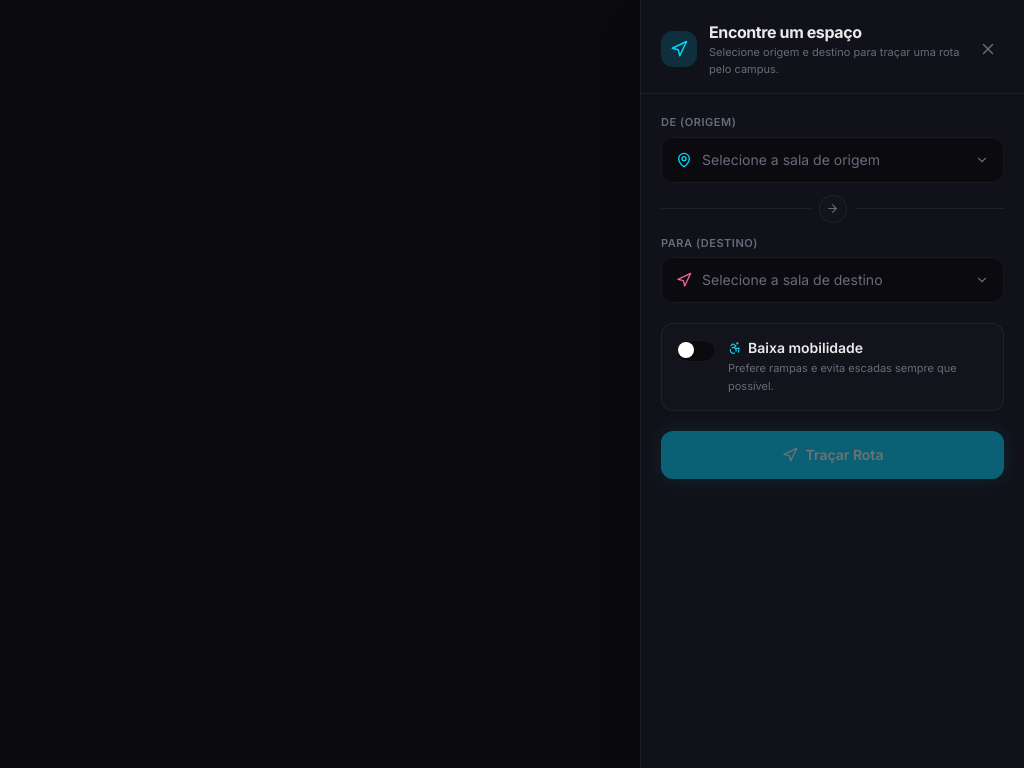
Test: RouteDrawer Component › deve resolver dinamicamente para o banheiro mais próximo ao selecionar "Banheiro (Mais Próximo)"
Note: Origem: Sala 01
Step 1. Click the button "Selecione a sala de origem" → (832, 160), box left=661, top=136, right=1004, bottom=182
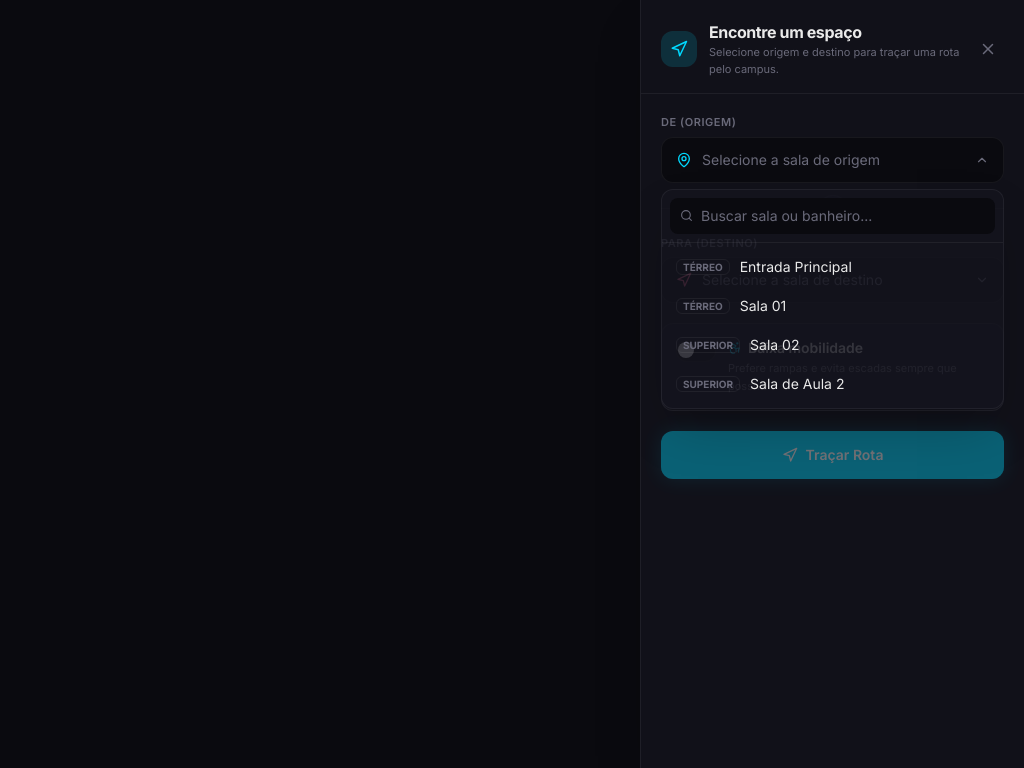
Step 2. Click the text "Sala 01" → (763, 305), box left=740, top=296, right=786, bottom=315
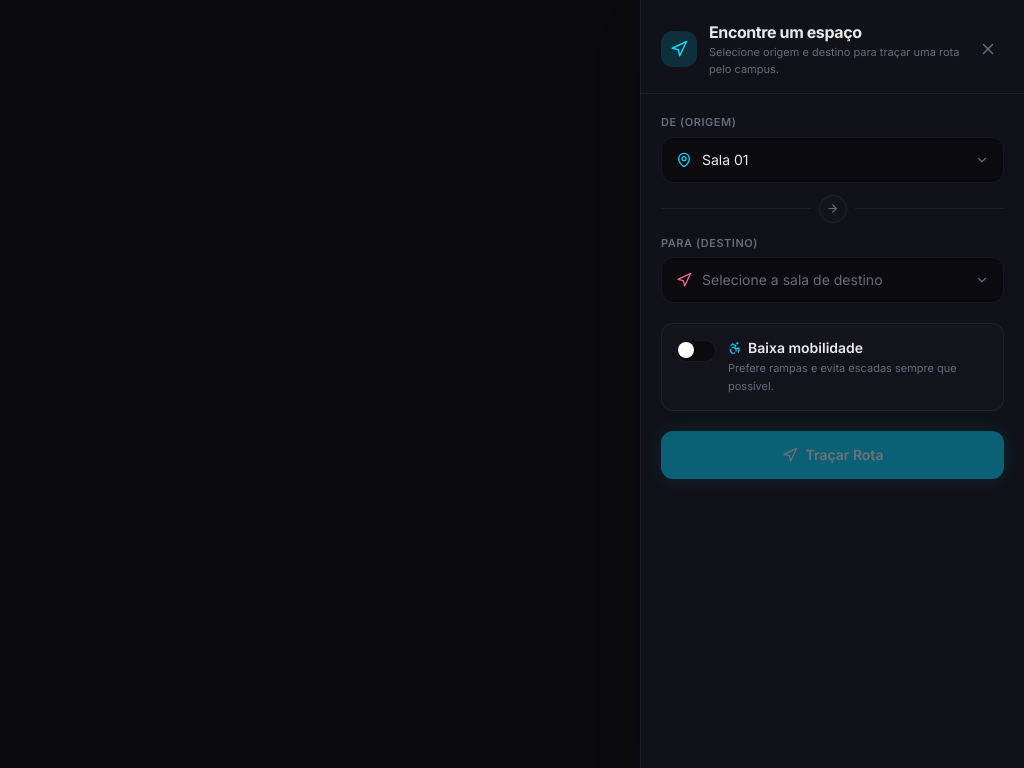
Note: Destino: Banheiro (Mais Próximo)
Step 3. Click the button "Selecione a sala de destino" → (832, 280), box left=661, top=257, right=1004, bottom=303
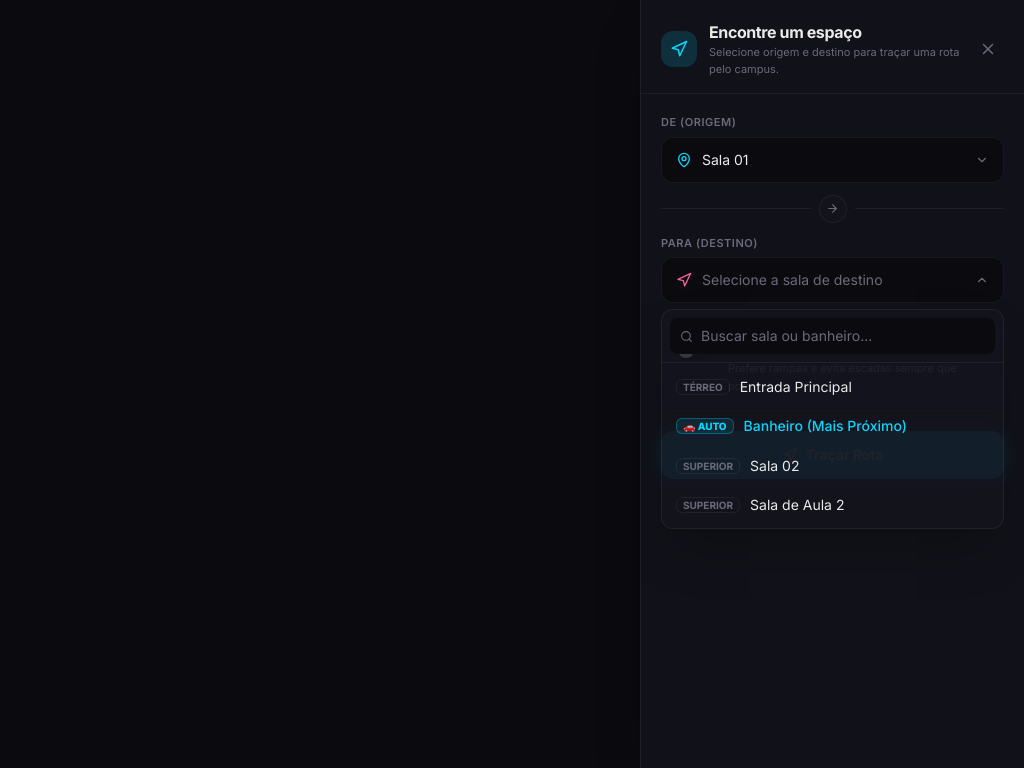
Step 4. Click the text "Banheiro (Mais Próximo)" → (825, 426), box left=744, top=416, right=907, bottom=436
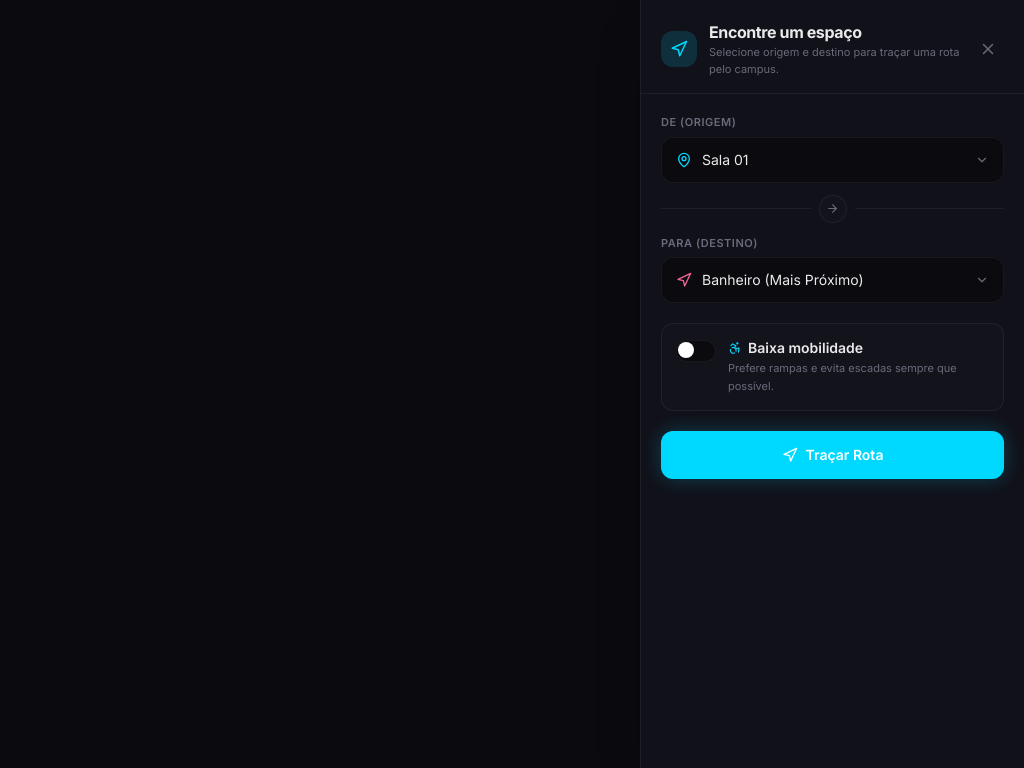
Note: Traçar Rota
Step 5. Click the button "Traçar Rota" → (832, 455), box left=661, top=431, right=1004, bottom=479
Wait 100 ms
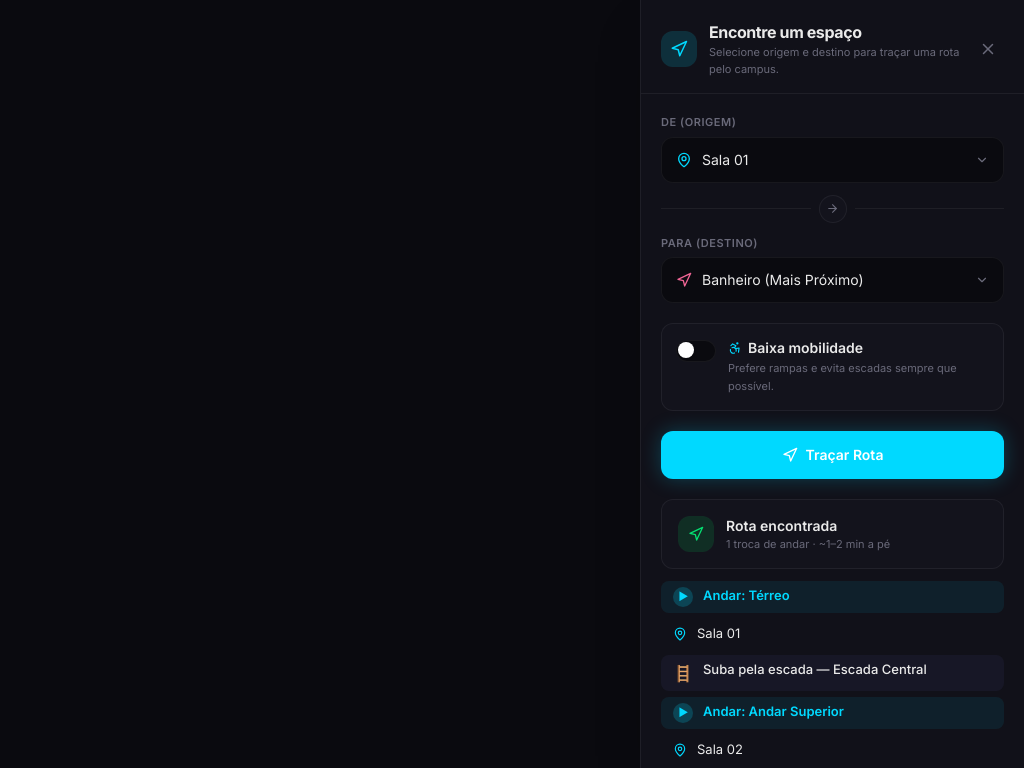
Expected: the text "Rota encontrada" is shown, left=726, top=517, right=837, bottom=534
